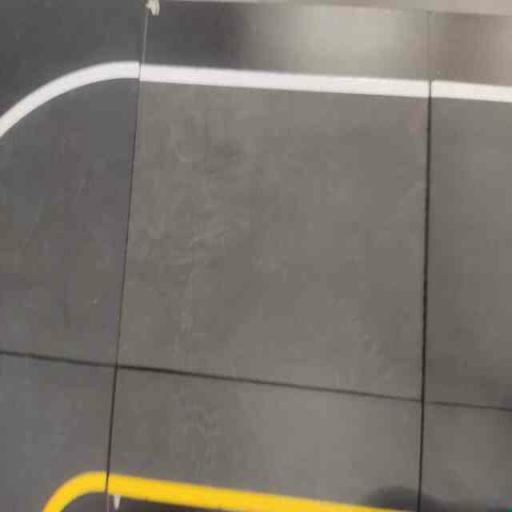straight: (134, 27, 408, 512)
